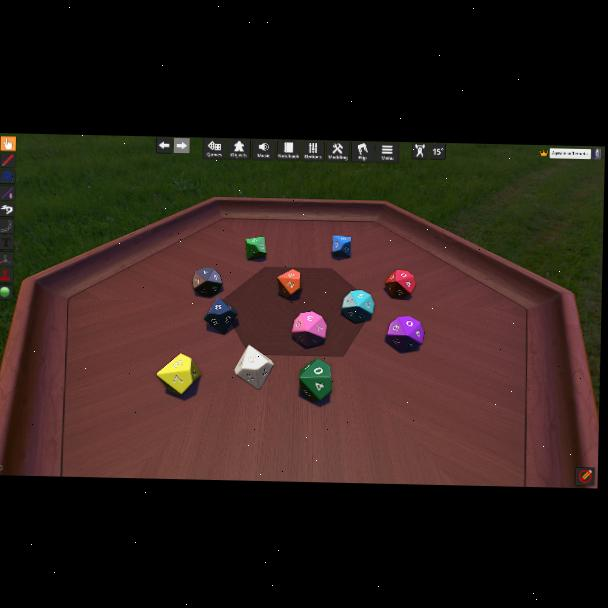d10: (157, 353, 201, 396), (234, 345, 275, 391), (299, 358, 333, 402), (204, 297, 239, 335), (386, 315, 422, 351), (290, 311, 325, 347), (342, 290, 373, 322), (192, 266, 222, 297), (385, 269, 413, 299), (277, 269, 301, 298), (245, 236, 266, 260), (332, 235, 351, 258)
